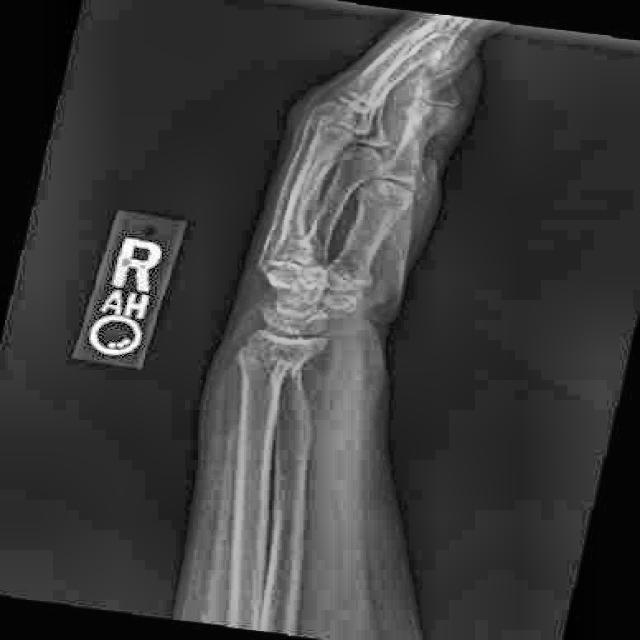fingers positive: (214, 325, 333, 391)
